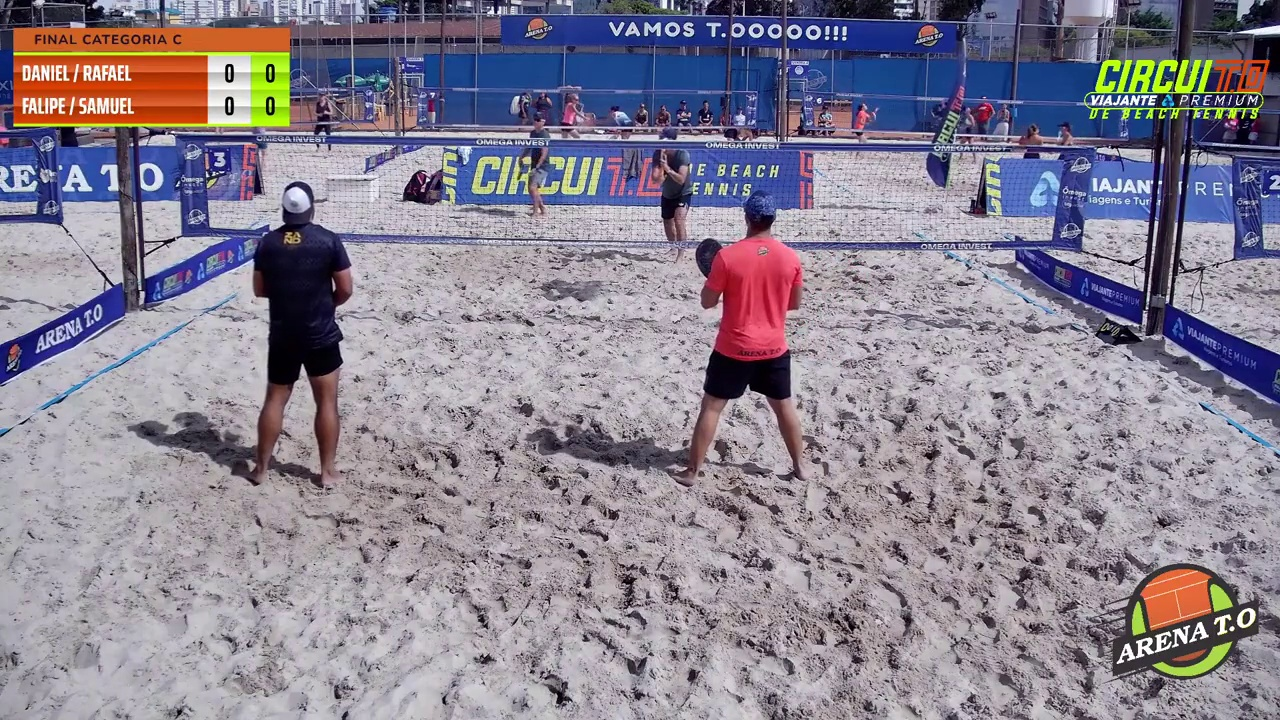court_line: (508, 0, 660, 396), (640, 0, 789, 366)
